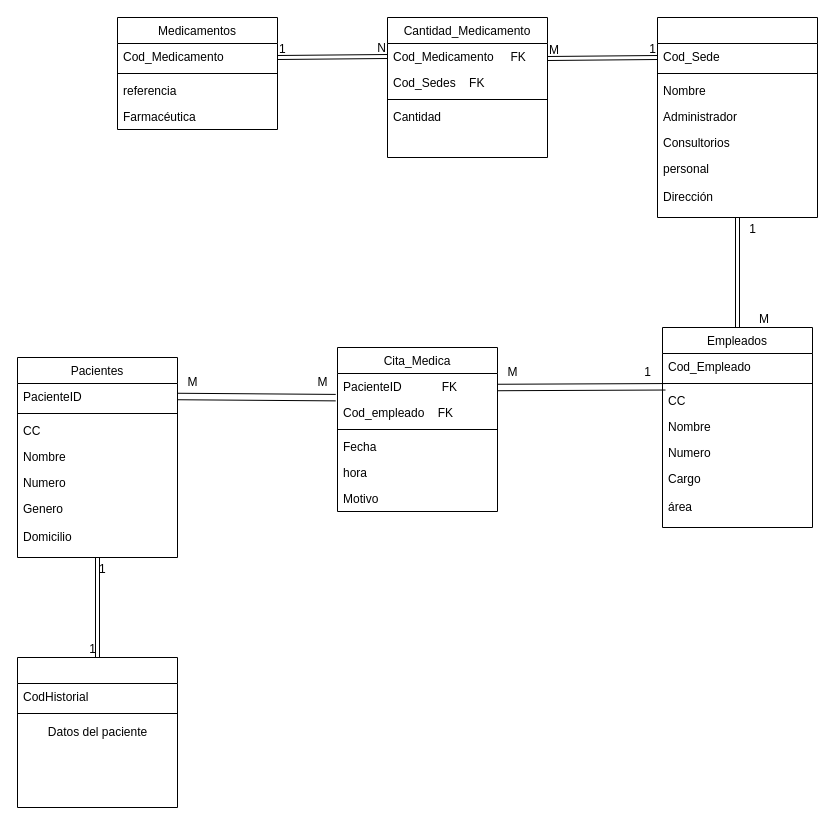
Some shapes in this 835 by 825 pixel diagram are drawn without their labels. Each missing label, with the box of its shape:
HistorialClinico: (16, 656, 178, 808)
Sedes: (656, 16, 818, 218)
